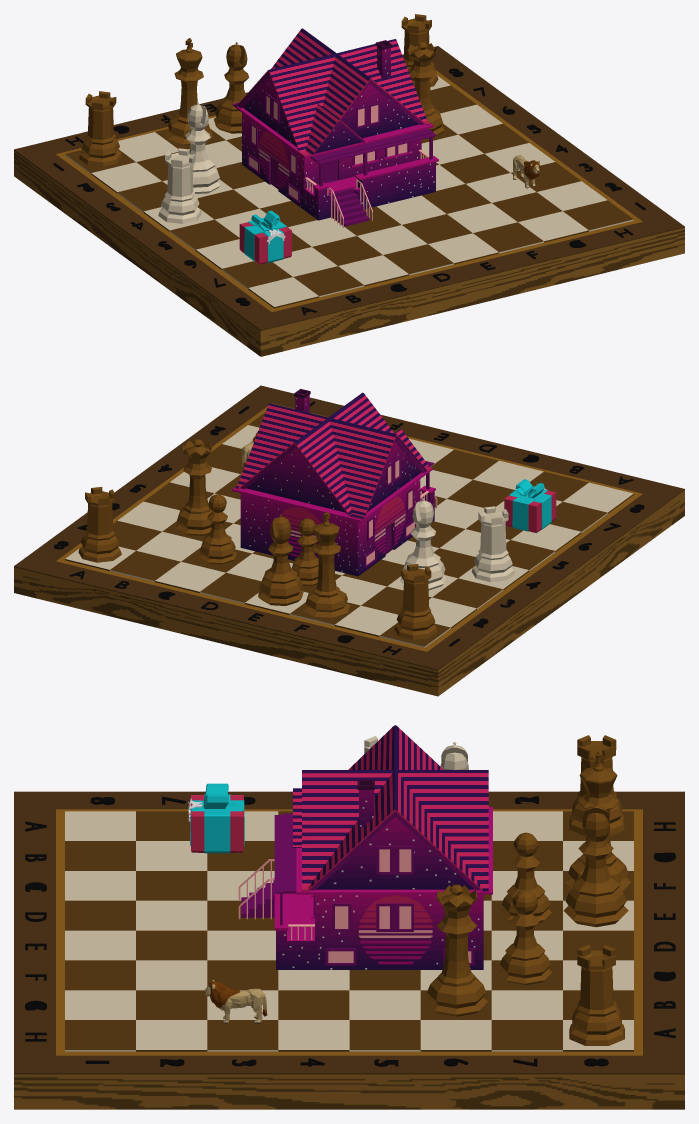
The picture shows the model from 3 angles, top to bottom: view 1: azimuth 30°, elevation 25°; view 2: azimuth 150°, elevation 25°; view 3: azimuth 270°, elevation 25°; orthographic projection. The views are drawn at different scales.
Visible parts, largest first — view 1: Cube.002, Cube.156, OBJRANDOM_GIANT_PRESENT, ANIMAL_LEON; view 2: Cube.002, Cube.156, OBJRANDOM_GIANT_PRESENT; view 3: Cube.002, Cube.156, OBJRANDOM_GIANT_PRESENT, ANIMAL_LEON.
Part boxes in pixels (left/top/right/bottom): Cube.002: left=14, top=14, right=684, bottom=356; Cube.156: left=232, top=28, right=438, bottom=227; OBJRANDOM_GIANT_PRESENT: left=239, top=210, right=291, bottom=264; ANIMAL_LEON: left=513, top=155, right=540, bottom=188; Cube.002: left=14, top=385, right=684, bottom=696; Cube.156: left=232, top=389, right=437, bottom=576; OBJRANDOM_GIANT_PRESENT: left=504, top=479, right=556, bottom=532; Cube.002: left=14, top=735, right=684, bottom=1109; Cube.156: left=238, top=725, right=492, bottom=969; OBJRANDOM_GIANT_PRESENT: left=188, top=783, right=244, bottom=853; ANIMAL_LEON: left=204, top=980, right=267, bottom=1023.
Size of the model in its own units: 3981 by 1462 by 4012.
Materials: 28 (4 with a texture image).
